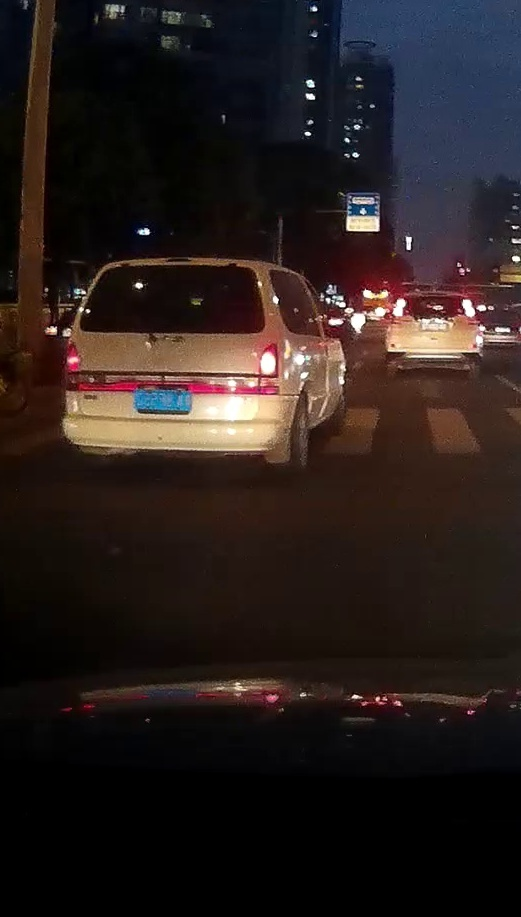L_light: (62, 341, 83, 392), (391, 296, 407, 317)
R_light: (258, 341, 280, 395), (461, 298, 477, 317)
T_light: (155, 256, 200, 267), (423, 292, 446, 296)
night-no: (384, 290, 484, 377)
night-right: (59, 254, 293, 472)
